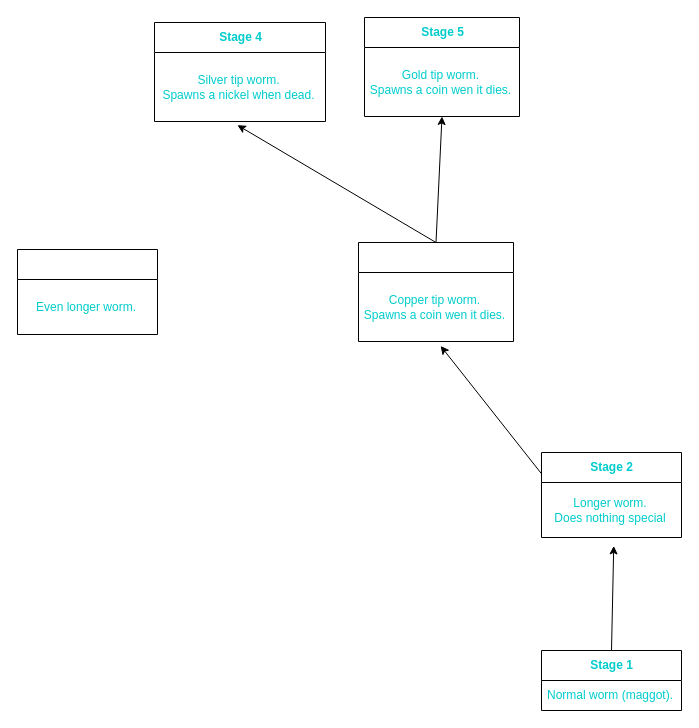
The diagram is 699 pixels wide and 728 high, and some of its shapes have lost their labels. Here are the shapes that lost their labels. From the top down, the box of each, then its label:
(16, 248, 158, 334): Stage 6
(358, 242, 514, 342): Stage 3
